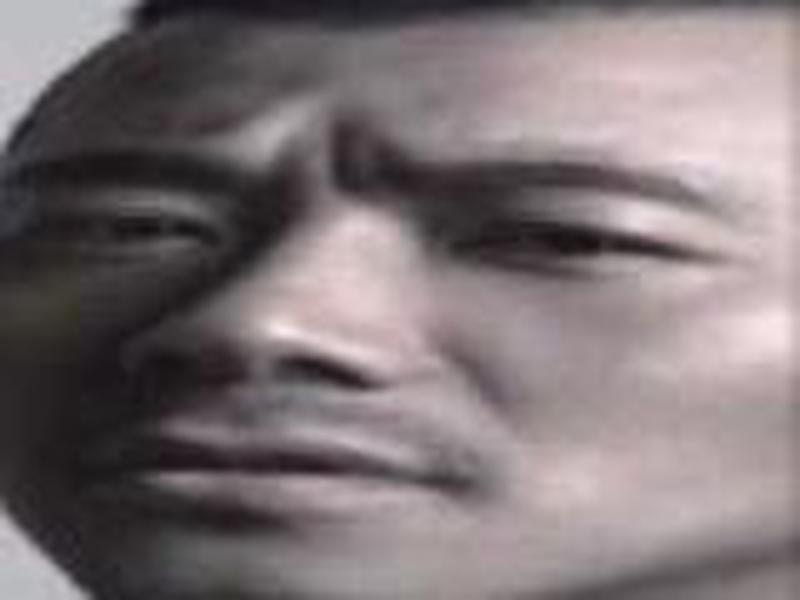without_mask: (2, 21, 800, 595)
